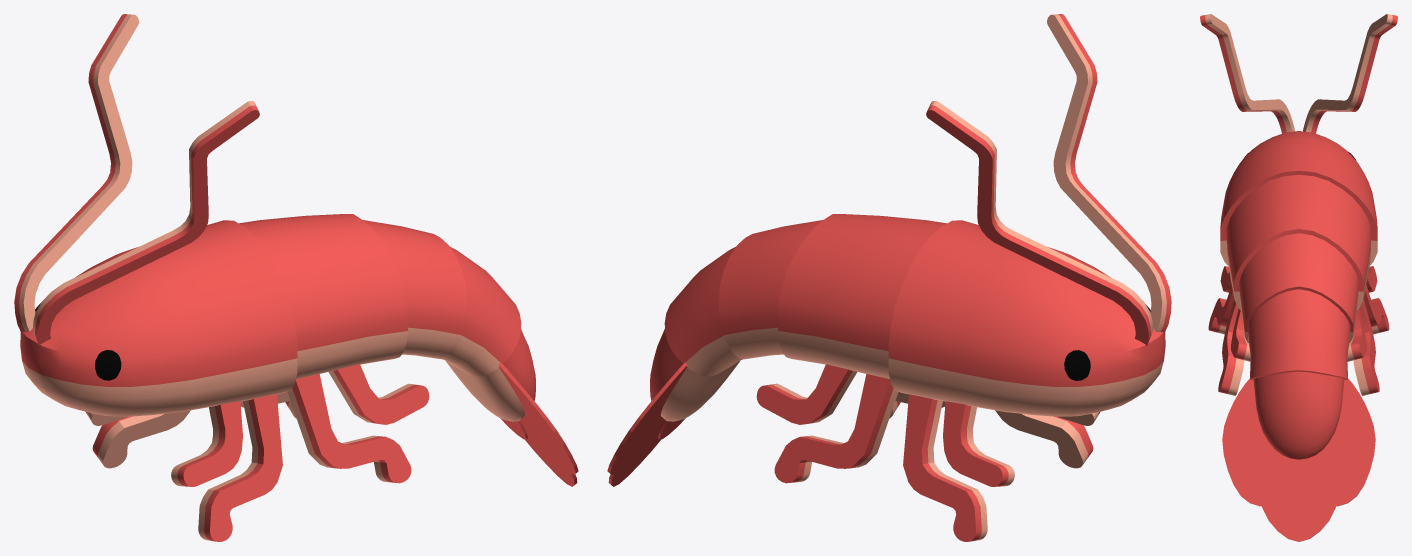
File: shrimp.fbx
3 renders of one model, left to right at view 1: azimuth 30°, elevation 25°; view 2: azimuth 150°, elevation 25°; view 3: azimuth 270°, elevation 25°, orthographic. The views are drawn at different scales.
Visible parts, largest first — view 1: Cube.186; view 2: Cube.186; view 3: Cube.186.
Part boxes in pixels (x1,y1,x2,y2): Cube.186: (14, 14, 578, 541); Cube.186: (607, 14, 1171, 541); Cube.186: (1200, 14, 1397, 541).
Bounding box in the file's own units: 207 × 188 × 86.54.
1 material, 1 textured.
